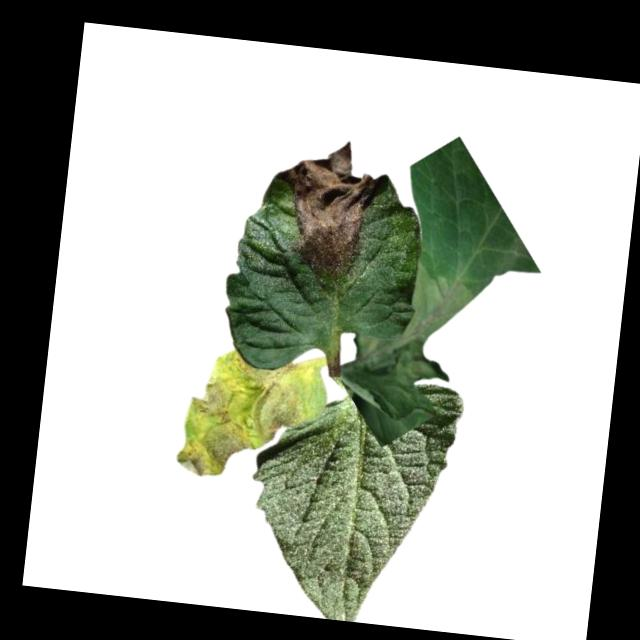Late_blight: (174, 345, 312, 486), (348, 250, 478, 392), (272, 134, 383, 278)
healthy: (237, 368, 465, 631)
